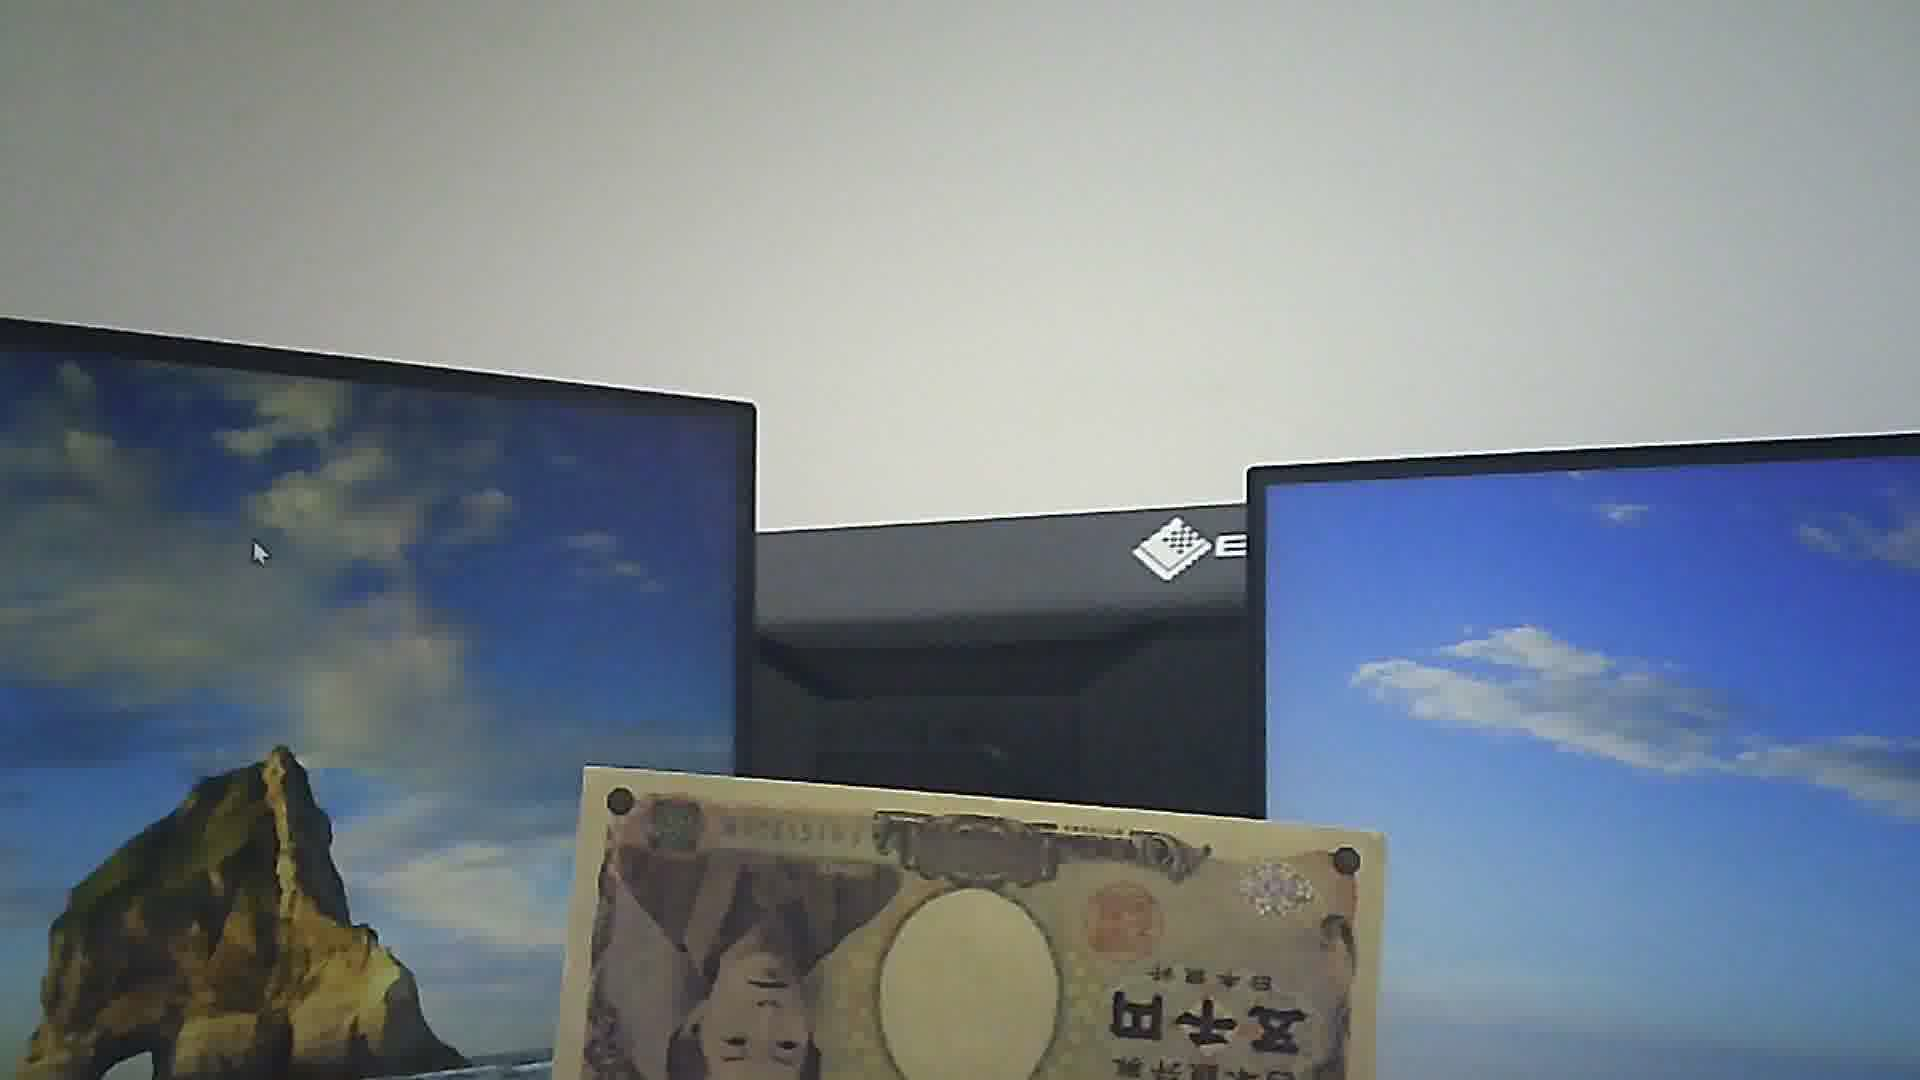5,000 Yen: (547, 757, 1324, 1079)
